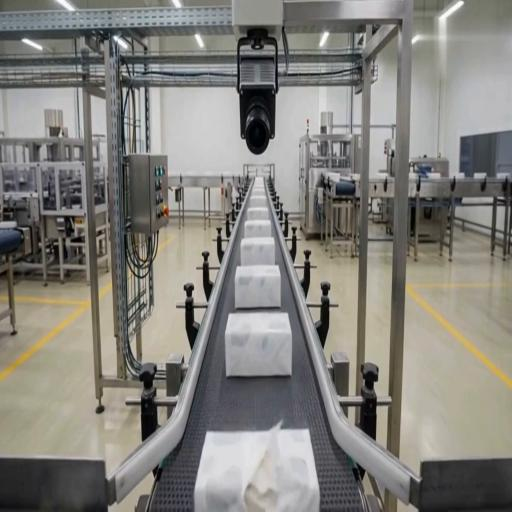defective: (187, 425, 328, 512)
good: (225, 312, 292, 376), (235, 266, 281, 308), (241, 238, 275, 265), (245, 220, 271, 237), (247, 208, 269, 220), (249, 196, 267, 207), (252, 189, 266, 197), (255, 177, 263, 184)
